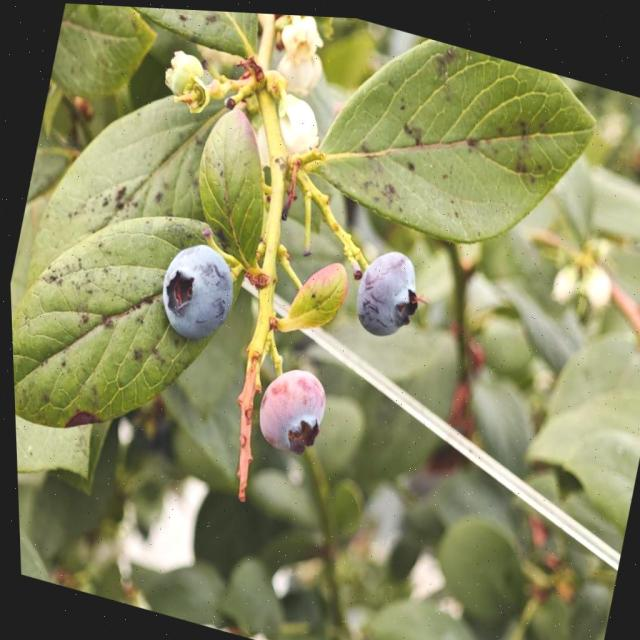RipeBlueBerry: (145, 232, 244, 349), (341, 235, 430, 345)
Semi-RipeBlueBerry: (245, 352, 335, 462)
